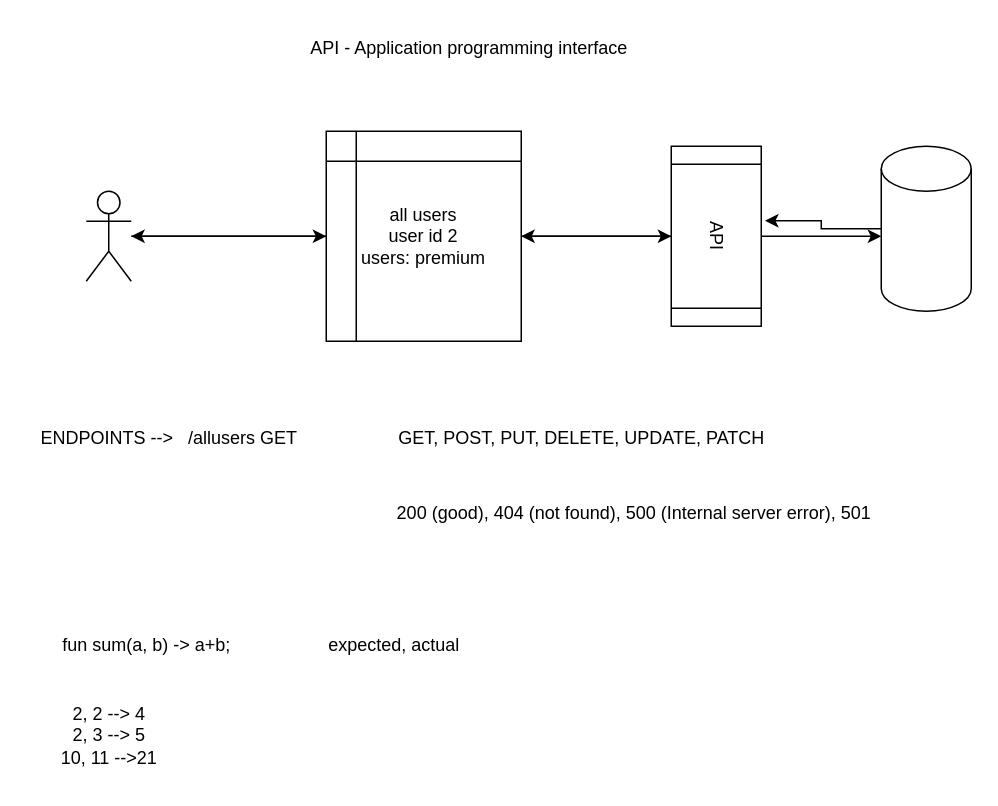
Some shapes in this 998 by 806 pixel diagram are drawn without their labels. The shapes that lost their labels are listed below. From the top down, each one's centre as x and y in pixels, then its label:
[108,235]: Actor
[925,228]: DB
